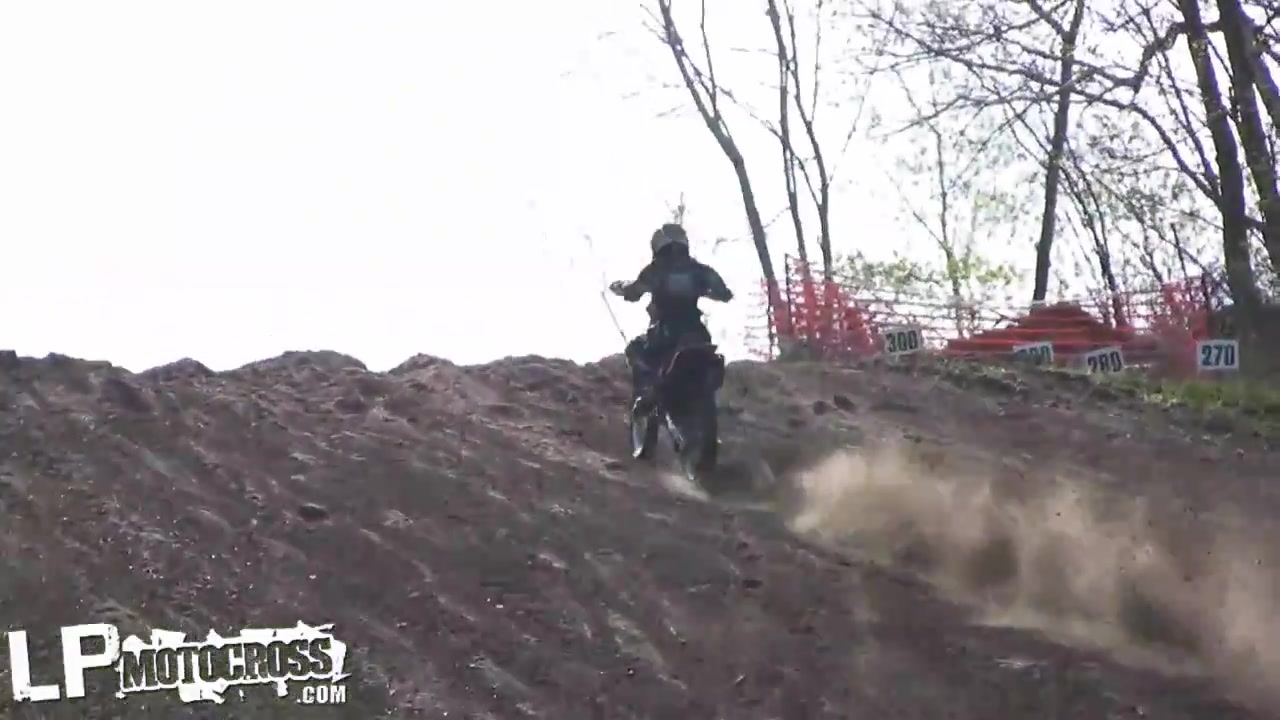motorbike: (628, 350, 723, 484)
